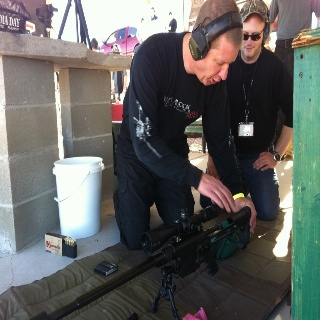rifle: (16, 204, 252, 320)
